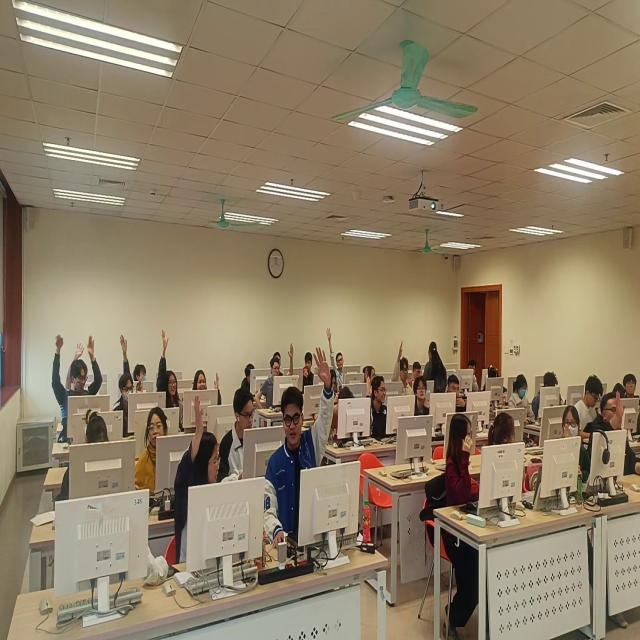raise_hand: (273, 349, 340, 544), (174, 402, 226, 566), (55, 336, 101, 440), (589, 393, 636, 486), (558, 413, 590, 501), (261, 341, 298, 417), (156, 327, 184, 421), (366, 375, 400, 445), (118, 335, 153, 387), (189, 367, 226, 409), (394, 339, 415, 410), (328, 330, 352, 388)
raise_head: (136, 409, 178, 503), (221, 393, 267, 477), (444, 375, 478, 426), (411, 375, 436, 426), (303, 352, 318, 387), (624, 372, 640, 404)
stand: (426, 342, 447, 415)
using_computer: (60, 418, 121, 510), (328, 384, 364, 459), (512, 374, 549, 433), (114, 374, 145, 440), (574, 375, 608, 433), (538, 369, 564, 417), (241, 364, 269, 397), (467, 360, 487, 401)
